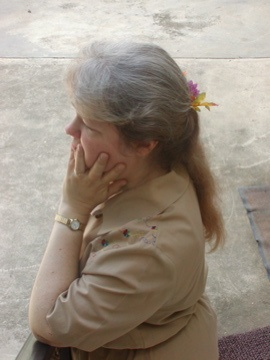head: (65, 42, 198, 185)
person: (22, 37, 220, 359)
